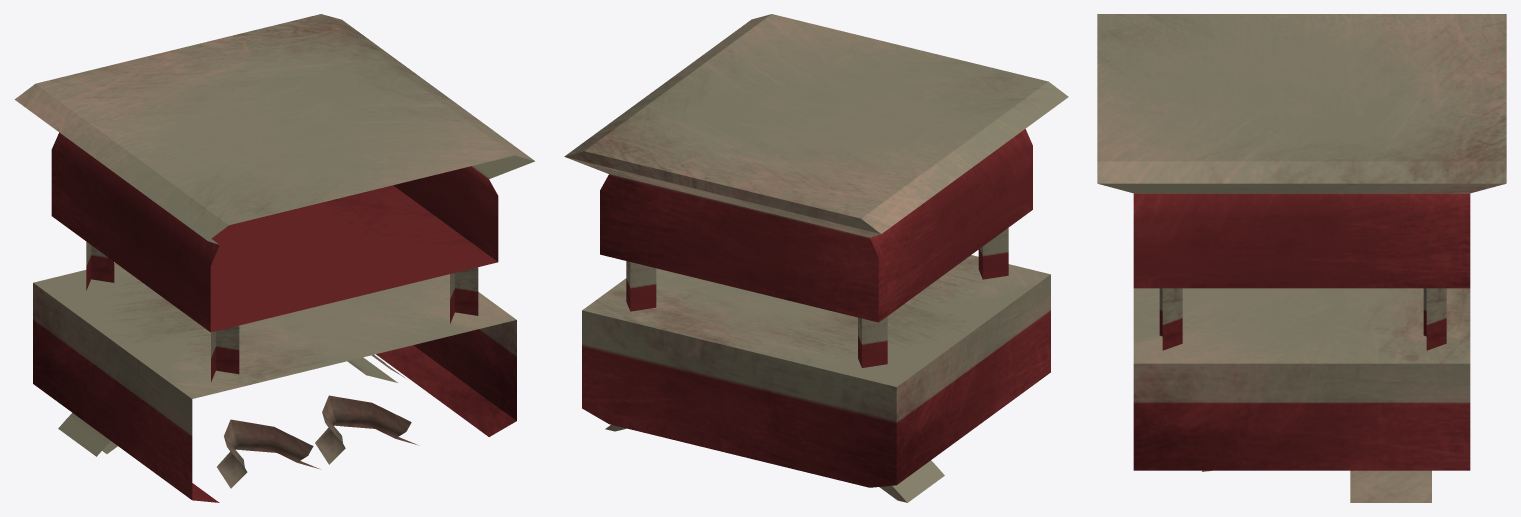
Rendered from BSolid_5.fbx.
3 views of the same model, side by side, from view 1: azimuth 30°, elevation 25°; view 2: azimuth 150°, elevation 25°; view 3: azimuth 270°, elevation 25° (orthographic). The views are drawn at different scales.
Visible parts, largest first — view 1: BSolid_5; view 2: BSolid_5; view 3: BSolid_5.
Part boxes in pixels (box(x1,y1,x2,y2)): BSolid_5: box(14, 14, 534, 502); BSolid_5: box(564, 14, 1068, 502); BSolid_5: box(1097, 14, 1506, 502).
Size of the model in its own units: 35.77 by 32.98 by 36.6.
